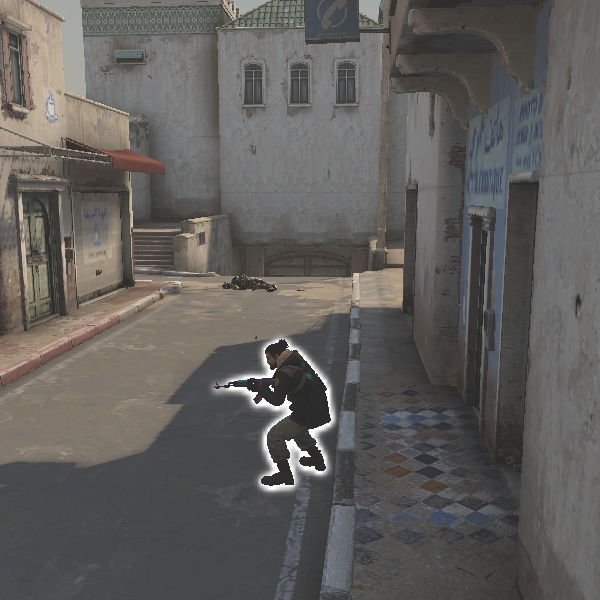ct_body: (235, 336, 332, 486)
